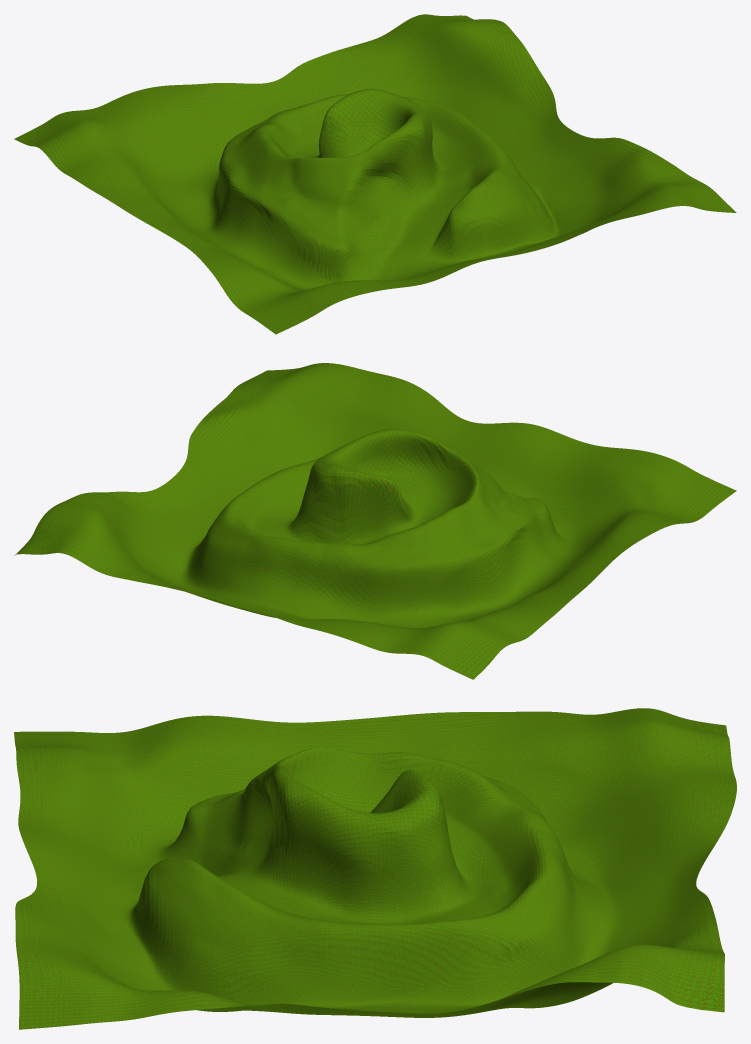
File: volcano.obj
3 renders of one model, top to bottom at view 1: azimuth 30°, elevation 25°; view 2: azimuth 150°, elevation 25°; view 3: azimuth 270°, elevation 25°, orthographic. The views are drawn at different scales.
Parts seen in each view (by area): view 1: Plane; view 2: Plane; view 3: Plane.
Boxes of the visible parts, <box> form: Plane: <box>14,14,736,334</box>; Plane: <box>14,363,736,679</box>; Plane: <box>14,708,736,1029</box>.
Size of the model in its own units: 232 by 52.48 by 227.
